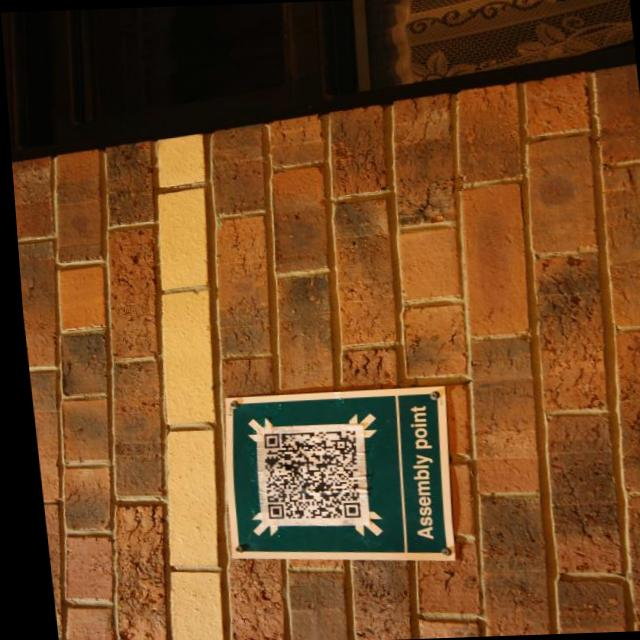qrcode: (254, 430, 357, 520)
